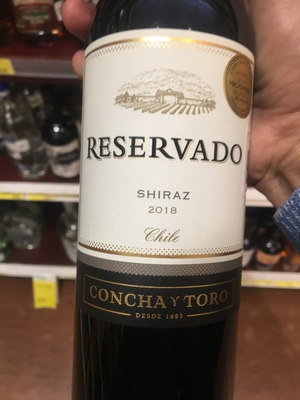reservado shiraz: (86, 23, 248, 400)
